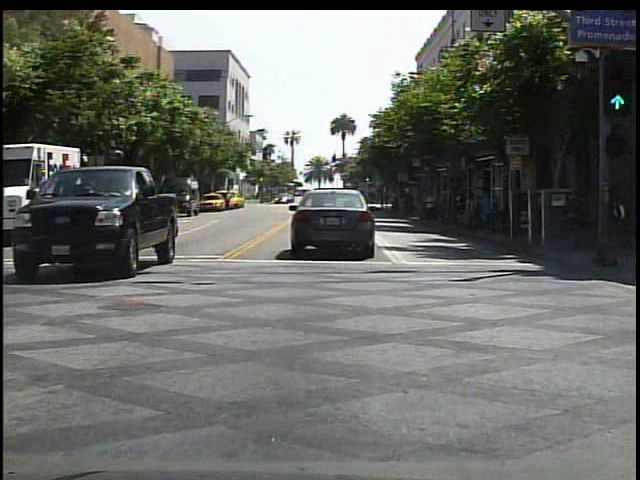person: (601, 171, 633, 273), (421, 188, 440, 223)
